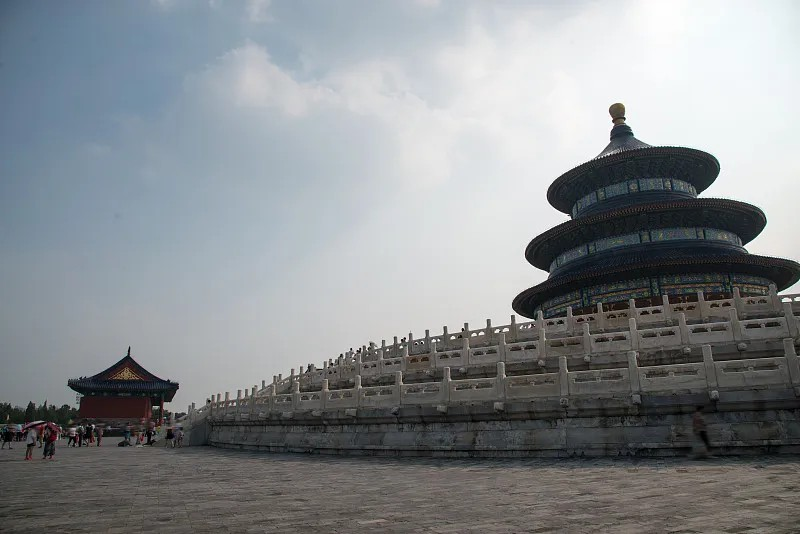Heaven: (511, 103, 800, 320)
